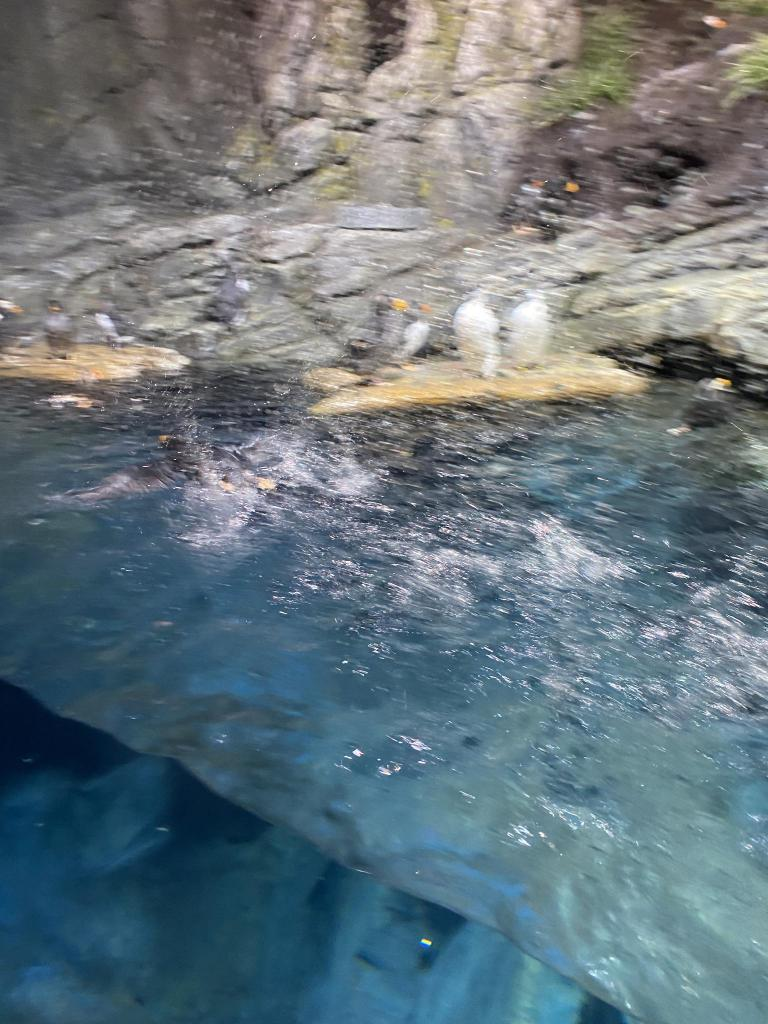puffin: (75, 432, 289, 508), (332, 292, 406, 382), (502, 288, 552, 374), (452, 290, 500, 378), (200, 262, 258, 332), (669, 374, 731, 438), (385, 298, 429, 358), (499, 177, 541, 237), (672, 12, 724, 58), (539, 180, 575, 236), (40, 301, 76, 357), (0, 299, 23, 337)
